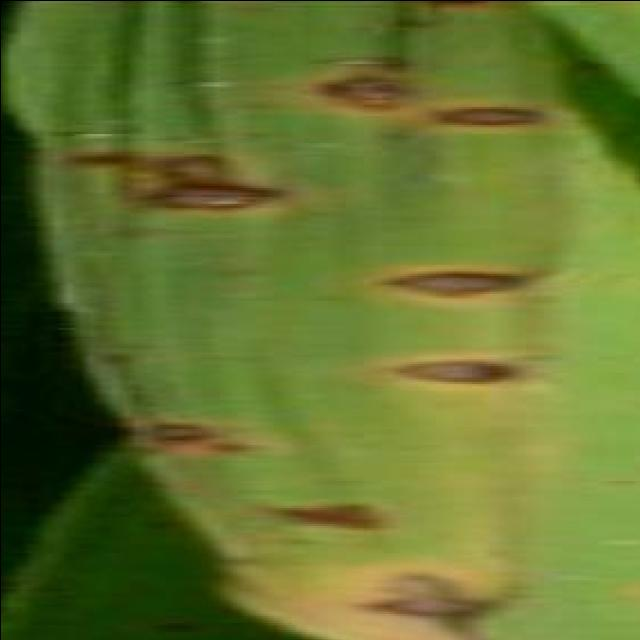Brown_Spot: (366, 336, 566, 402), (118, 165, 298, 228), (370, 248, 550, 309), (244, 485, 411, 543), (342, 579, 528, 629), (415, 88, 579, 140), (297, 68, 435, 118), (40, 124, 146, 180), (136, 138, 244, 192), (117, 408, 230, 458), (293, 40, 428, 74), (206, 428, 282, 464), (144, 608, 208, 638), (142, 504, 198, 536), (406, 0, 512, 9), (600, 466, 640, 488)
